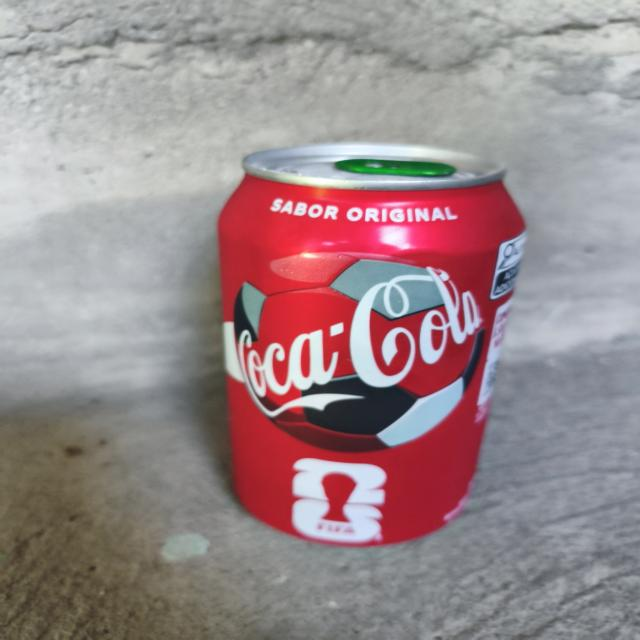Coca Cola: (215, 140, 526, 553)
